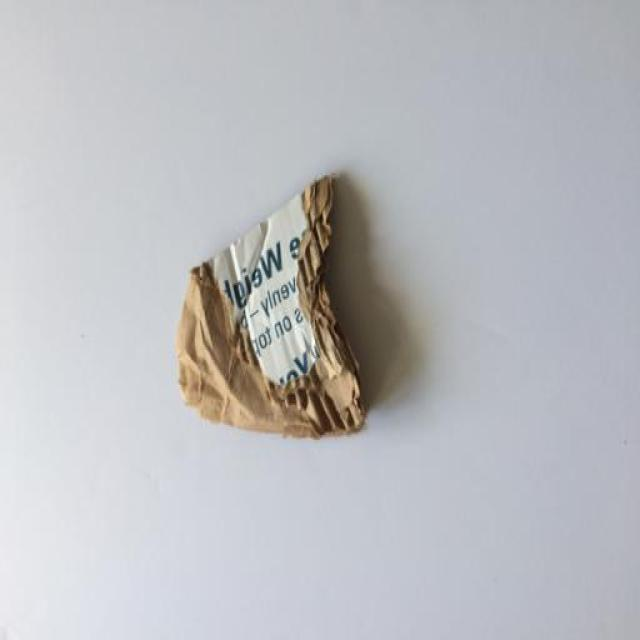cardboard: (179, 177, 366, 438)
